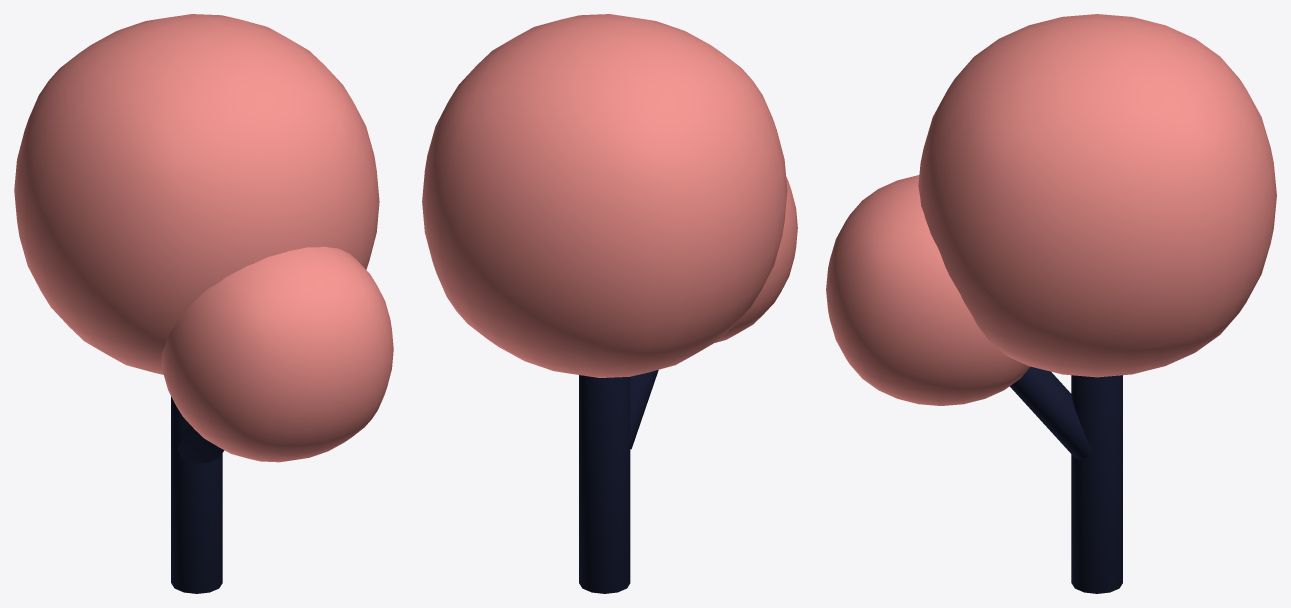
Rendered from arbre-fancy-automne.gltf.
3 renders of one model, left to right at view 1: azimuth 30°, elevation 25°; view 2: azimuth 150°, elevation 25°; view 3: azimuth 270°, elevation 25°, orthographic.
Parts seen in each view (by area): view 1: Cube.001, Cube.003, Cylinder.004, Cylinder.005; view 2: Cube.001, Cylinder.004, Cube.003, Cylinder.005; view 3: Cube.001, Cube.003, Cylinder.004, Cylinder.005.
Boxes of the visible parts, left/top/right/bottom form: Cube.001: left=14, top=14, right=379, bottom=374; Cube.003: left=161, top=246, right=393, bottom=462; Cylinder.004: left=171, top=396, right=222, bottom=593; Cylinder.005: left=178, top=425, right=224, bottom=463; Cube.001: left=422, top=14, right=787, bottom=377; Cylinder.004: left=579, top=375, right=630, bottom=593; Cube.003: left=715, top=177, right=797, bottom=342; Cylinder.005: left=628, top=370, right=658, bottom=449; Cube.001: left=918, top=14, right=1276, bottom=377; Cube.003: left=826, top=175, right=1030, bottom=405; Cylinder.004: left=1071, top=375, right=1122, bottom=593; Cylinder.005: left=1010, top=366, right=1092, bottom=459.
Bounding box in the file's own units: 1.31 × 2.22 × 1.65.
